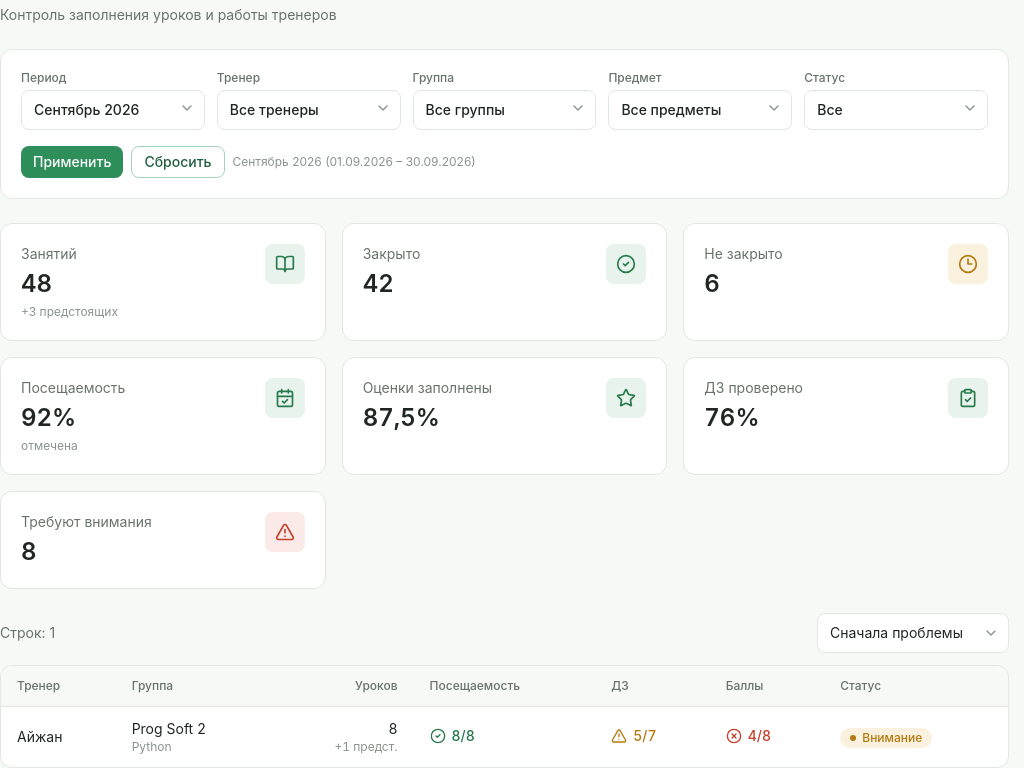
it: ControlPage › opens a row with its lessons, students without a score and a link to the lesson
(page scrolled)
Click the cell "Айжан": click(58, 737) [1,706,116,767]
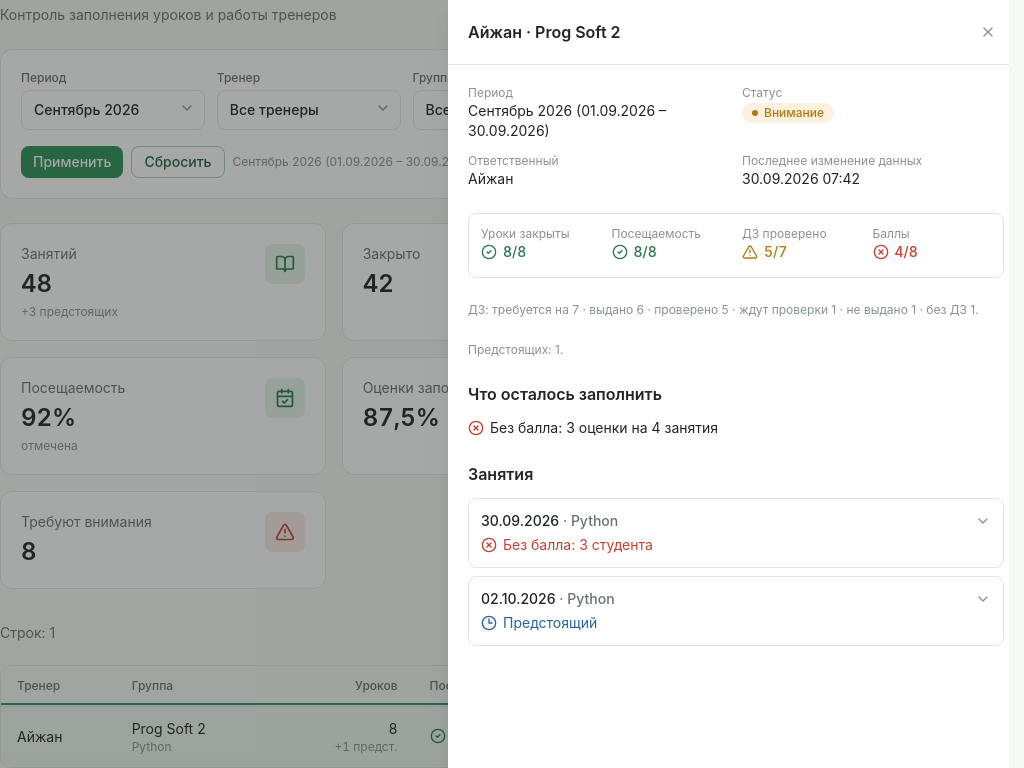
Expected: the text "30.09.2026" is shown, [481,512,559,529]
Expected: the text "Предстоящий" is shown, [481,613,615,633]
Click the text "30.09.2026": click(550, 520) [481,512,618,529]
(page scrolled)
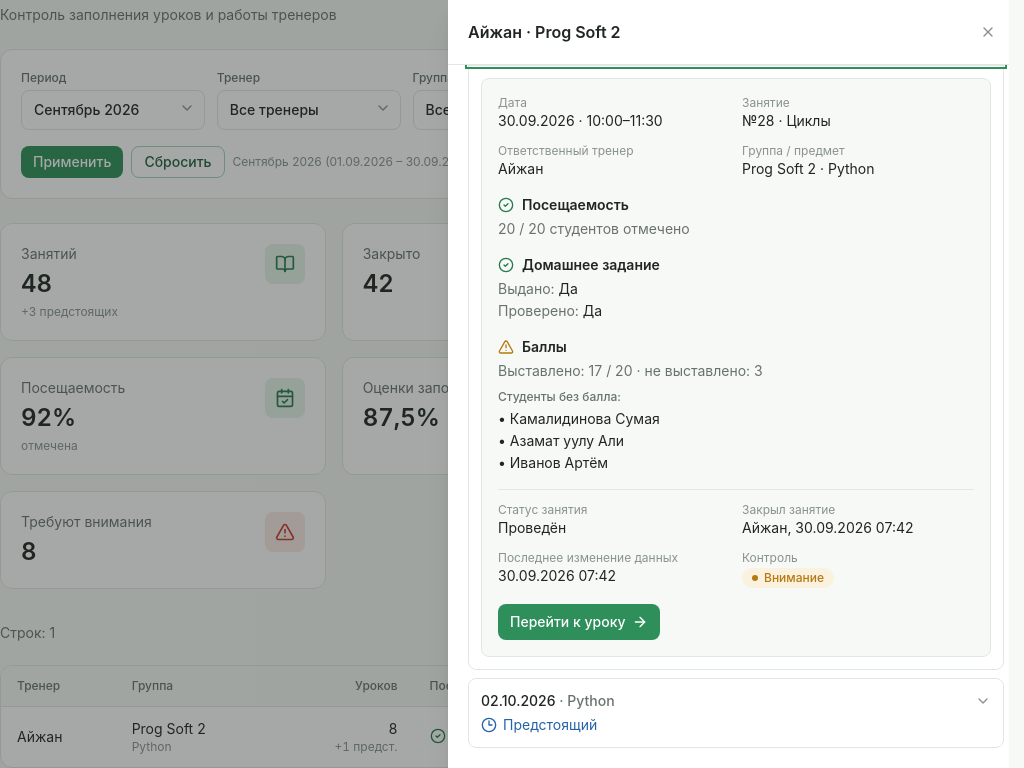
Expected: the text "Выставлено: 17 / 20 · не выставлено: 3" is shown, [498,362,763,379]
Expected: the list item "• Камалидинова Сумая" is shown, [498,410,660,427]
